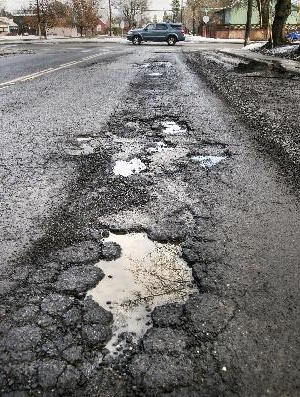pothole: (77, 221, 207, 362), (186, 140, 232, 168), (149, 112, 191, 136), (111, 154, 151, 179), (145, 134, 178, 152), (73, 131, 92, 142)
